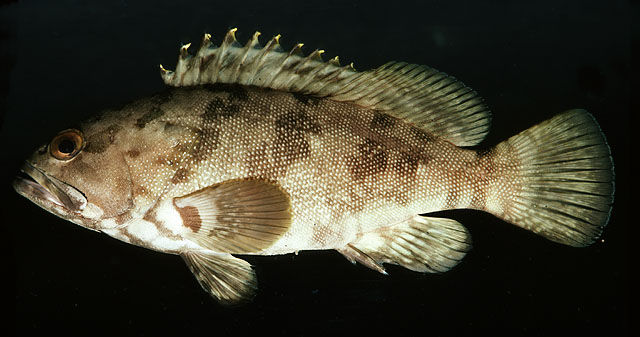fish: (13, 26, 616, 307)
